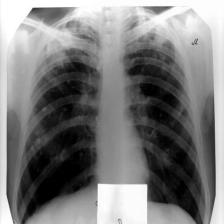tuberculosis: (15, 13, 213, 224)
